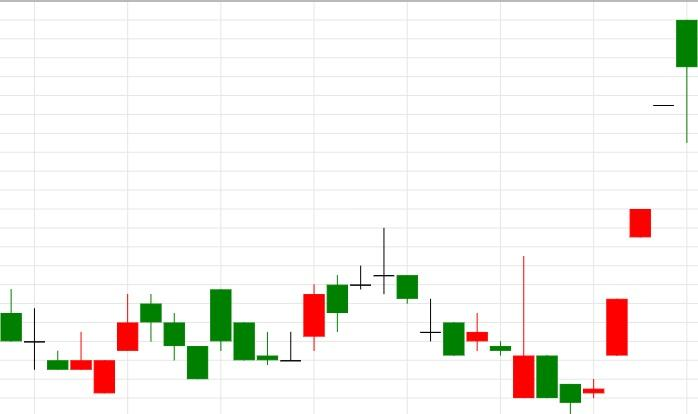hanging_man_fall: (584, 21, 697, 398)
inverse_hammer_rise: (374, 228, 535, 398)
